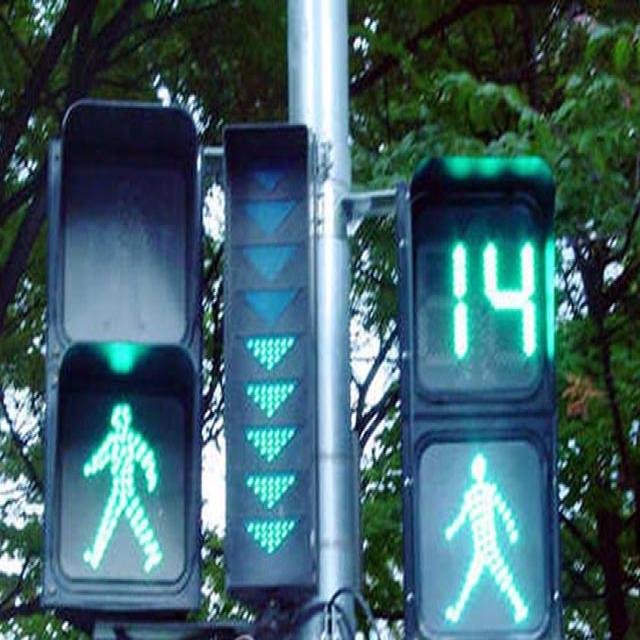Go: (44, 103, 326, 627), (386, 146, 584, 640), (21, 344, 203, 630), (372, 429, 582, 640)
